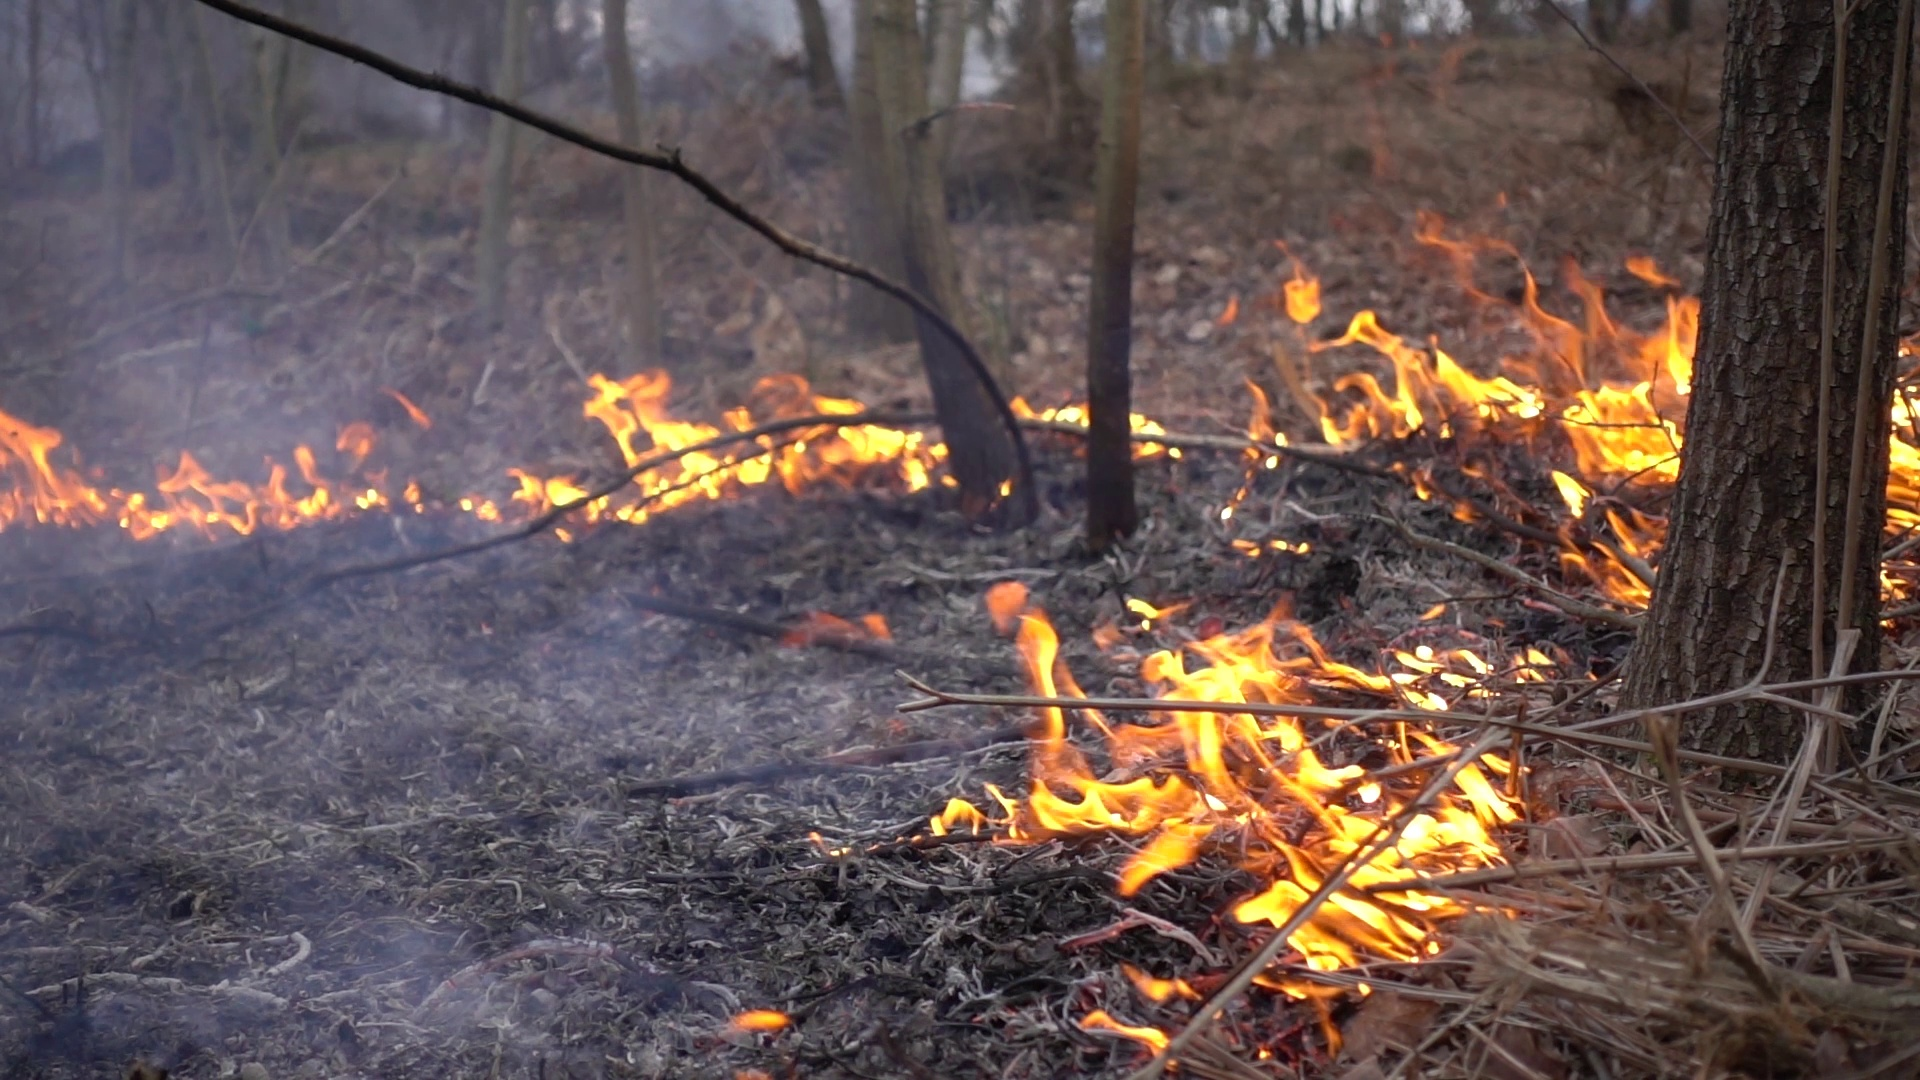fire: (931, 607, 1531, 989), (1249, 243, 1698, 487), (506, 378, 940, 525), (1, 423, 142, 530), (152, 454, 336, 531), (1888, 393, 1920, 521)
